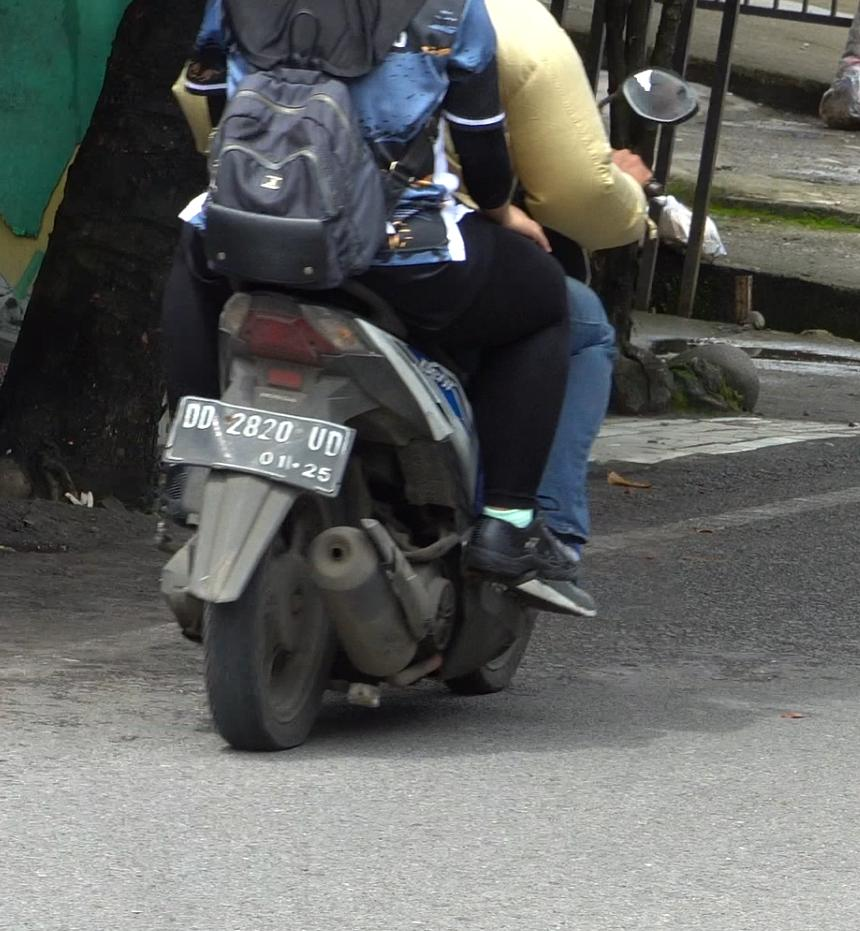number-plate: (161, 394, 355, 497)
